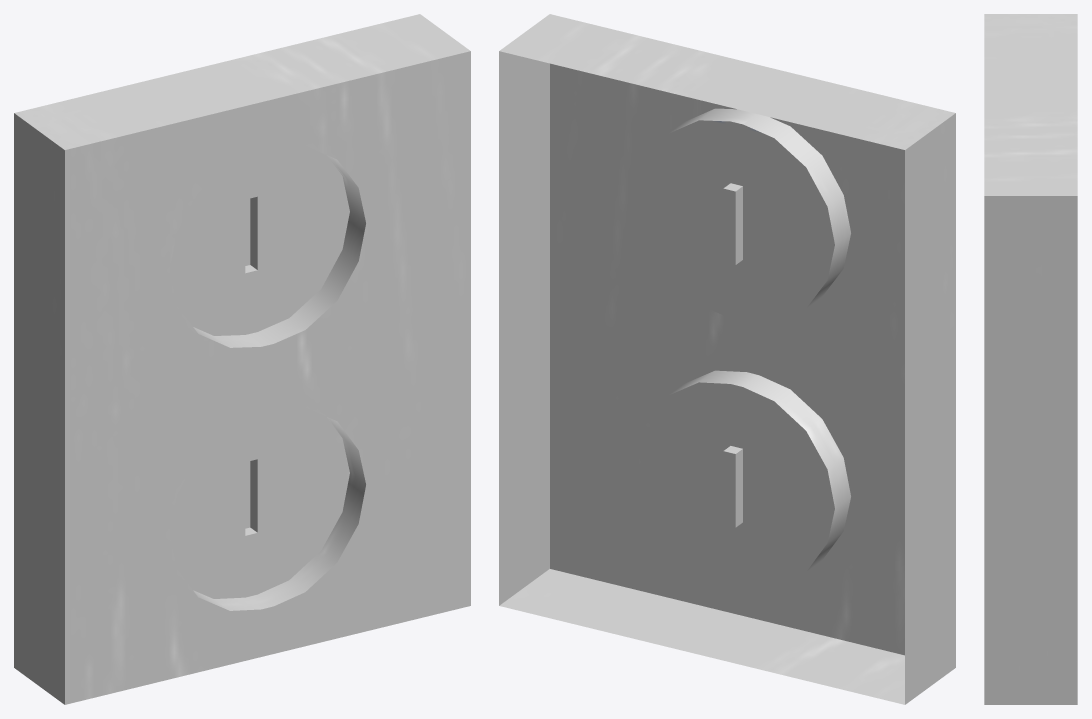
File: team socket.fbx
3 views of the same model, side by side, from view 1: azimuth 30°, elevation 25°; view 2: azimuth 150°, elevation 25°; view 3: azimuth 270°, elevation 25° (orthographic). The views are drawn at different scales.
Visible parts, largest first — view 1: socket; view 2: socket; view 3: socket.
Boxes of the visible parts, <box> form: socket: <box>14,14,470,704</box>; socket: <box>499,14,955,704</box>; socket: <box>984,14,1077,704</box>.
Bounding box in the file's own units: 76.16 × 99.44 × 16.48.
Materials: 1 (1 with a texture image).
